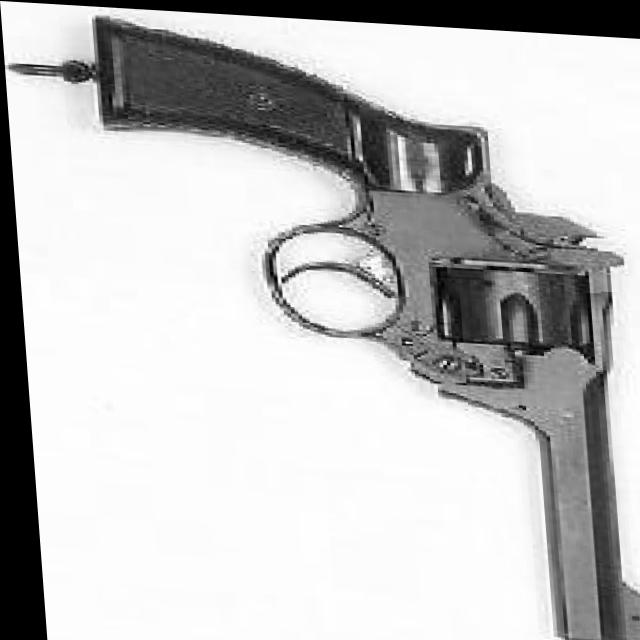handgun: (98, 9, 640, 637)
